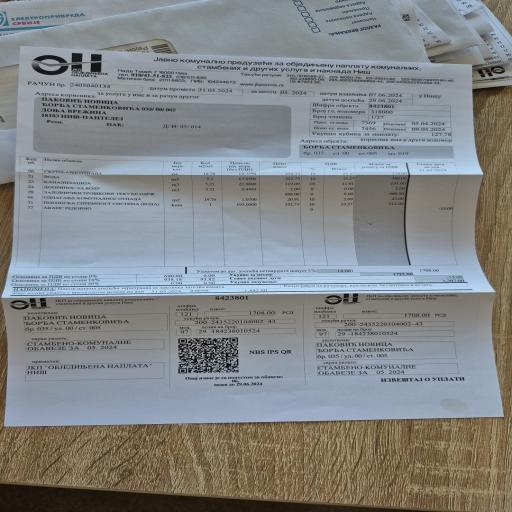stambene_usluge_nis: (310, 104, 457, 139)
stambene_usluge_nis_iznos: (226, 272, 469, 284)
